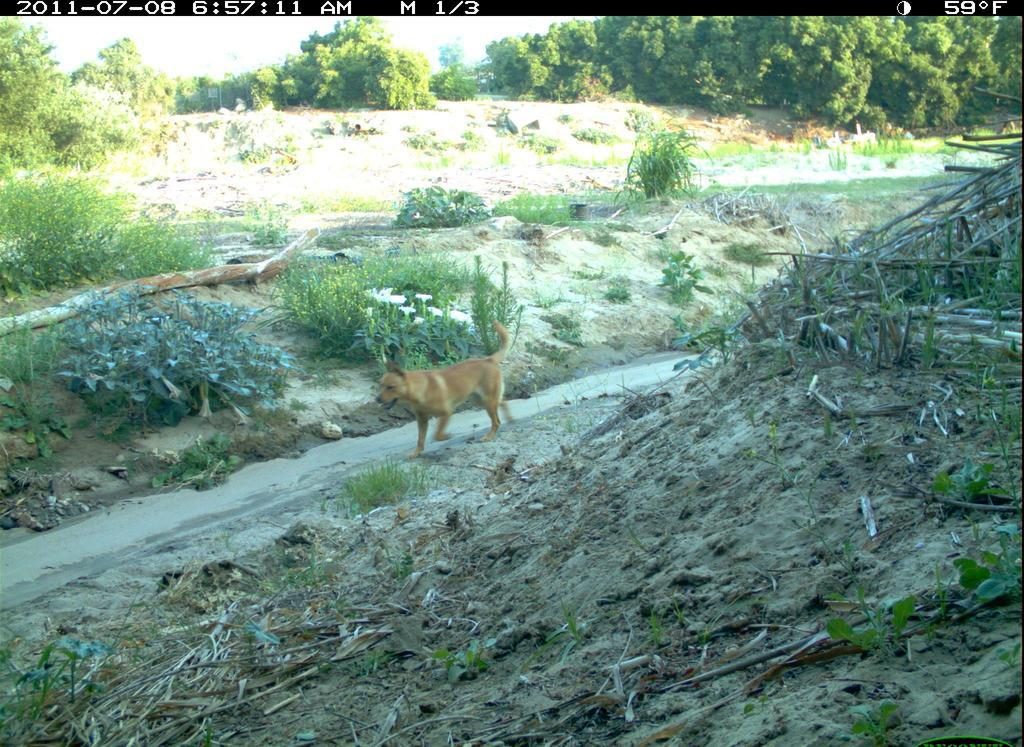dog: (355, 299, 542, 465)
